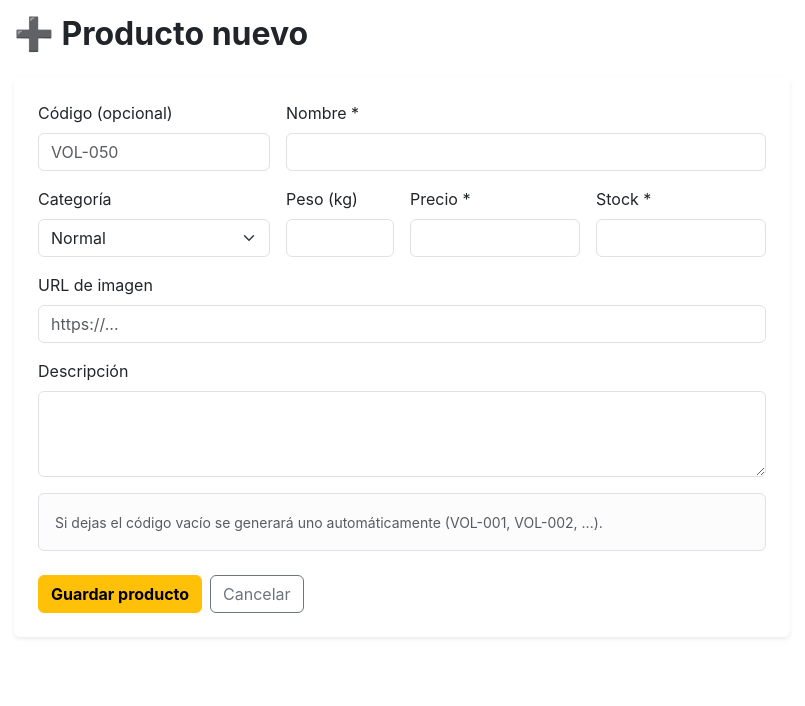
Test case: ProductNew - CRUD Create producto › muestra errores al enviar el formulario vacío
What coordinates should you click on to do the following:
click the button "Guardar producto"
I would click on:
 (120, 594)
Its box is [38,575,202,613].
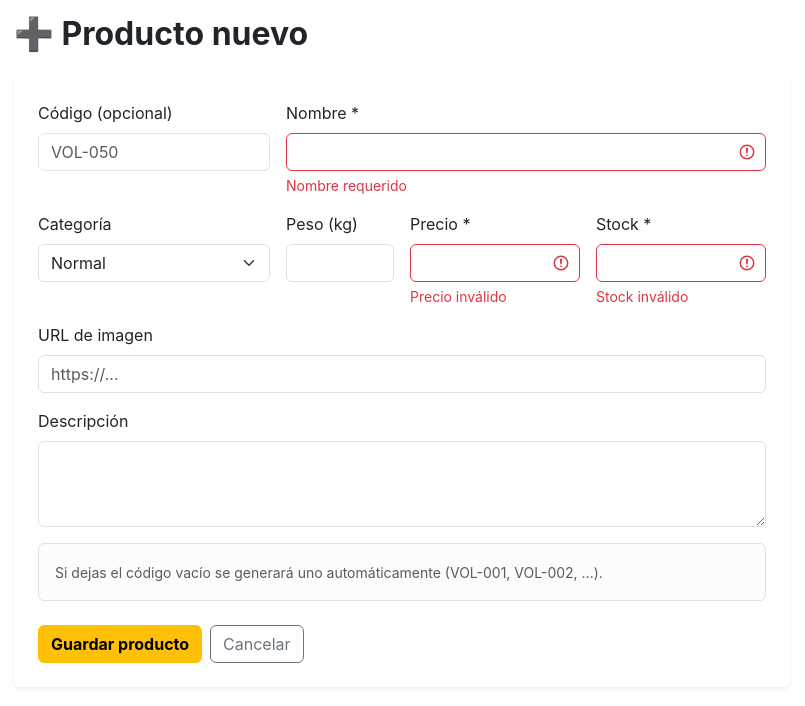
Expected: the text "Nombre requerido" is shown, [286,177,407,194]
Expected: the text "Precio inválido" is shown, [410,288,507,305]
Expected: the text "Stock inválido" is shown, [596,288,688,305]
